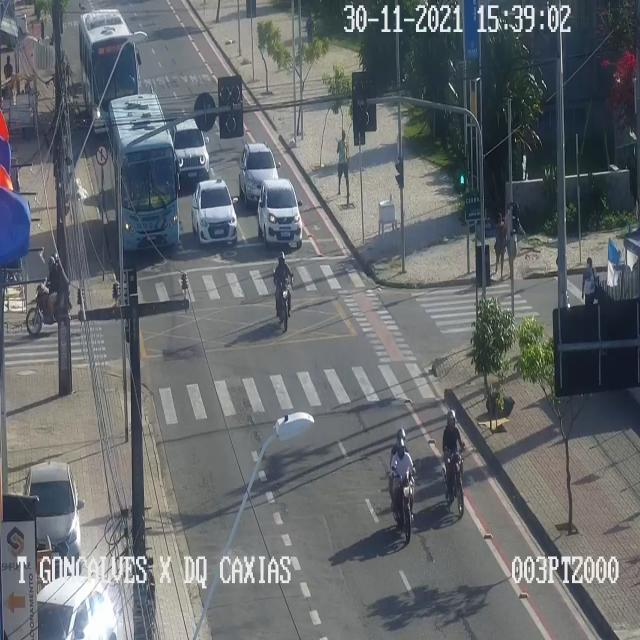Bus: (110, 93, 181, 256), (78, 9, 144, 136)
Car: (26, 461, 85, 567), (36, 572, 126, 639), (257, 175, 305, 247), (192, 180, 238, 246), (172, 118, 212, 182), (240, 142, 278, 206)
Motorcycle: (27, 256, 72, 334), (386, 427, 414, 544), (441, 410, 465, 514), (274, 250, 292, 333)
